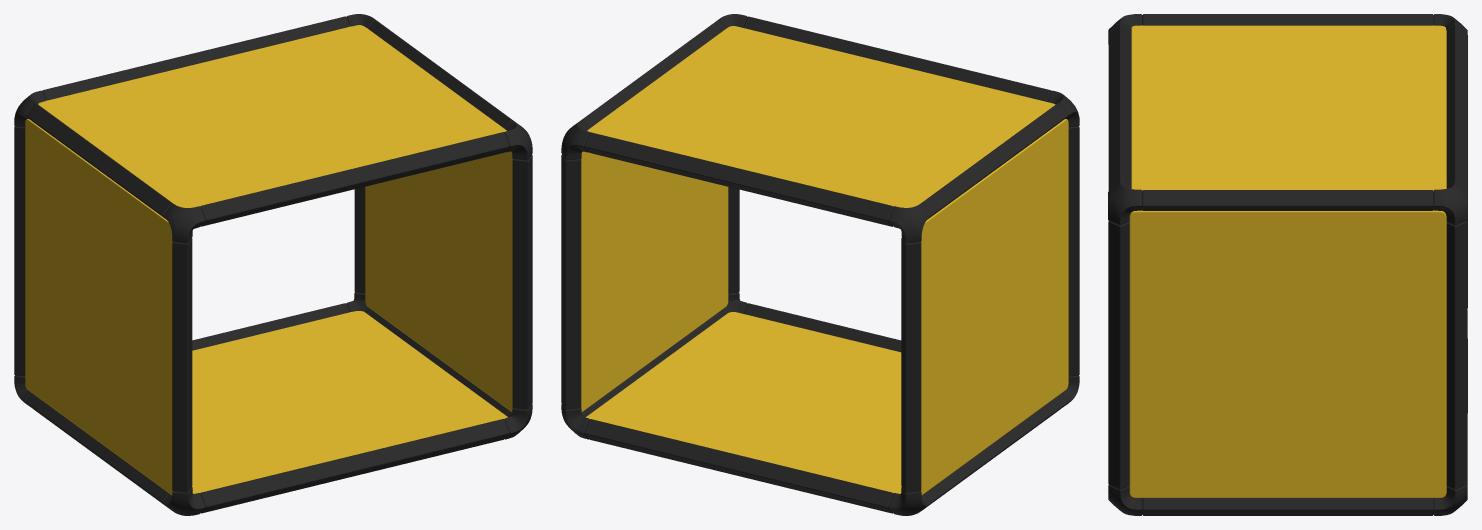
3 renders of one model, left to right at view 1: azimuth 30°, elevation 25°; view 2: azimuth 150°, elevation 25°; view 3: azimuth 270°, elevation 25°, orthographic. The views are drawn at different scales.
Parts seen in each view (by area): view 1: 420x329x330; view 2: 420x329x330; view 3: 420x329x330.
Boxes of the visible parts, bbox=[...] form: 420x329x330: bbox=[14, 14, 532, 515]; 420x329x330: bbox=[561, 14, 1079, 515]; 420x329x330: bbox=[1108, 14, 1467, 515].
Bounding box in the file's own units: 0.4977 × 0.4065 × 0.4063.
